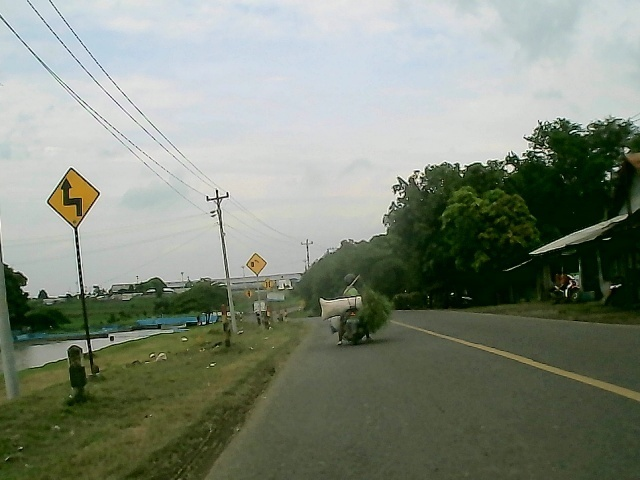Peringatan tepi air: (244, 251, 269, 279)
Tikungan garda pertama kiri: (44, 163, 107, 235)
